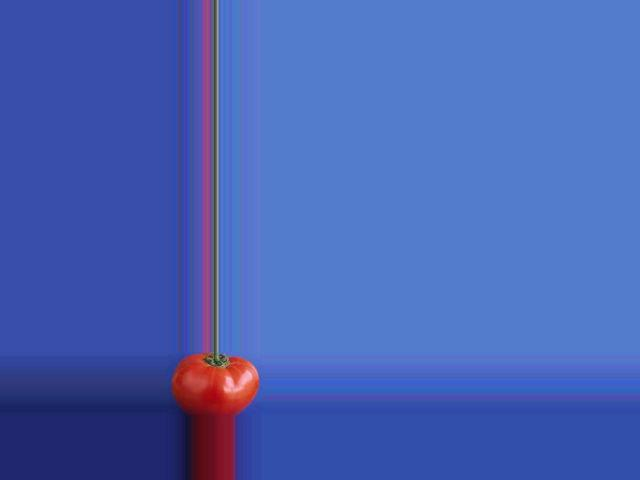tomato: (170, 352, 258, 417)
